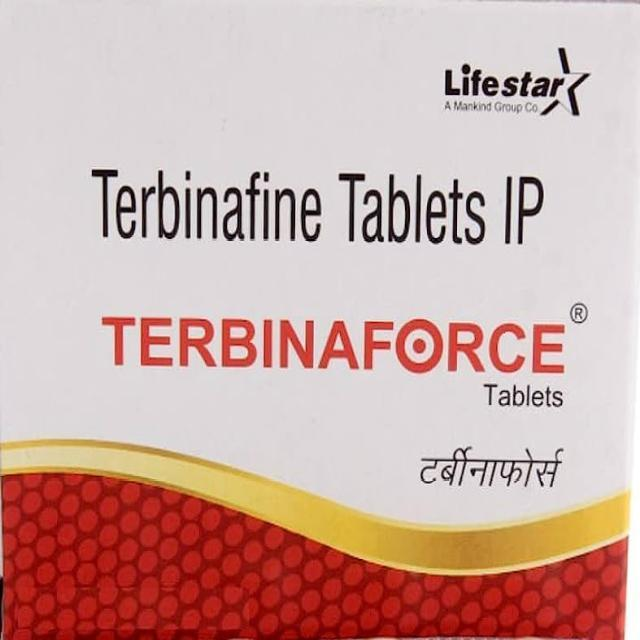drug-name: (97, 305, 569, 384)
